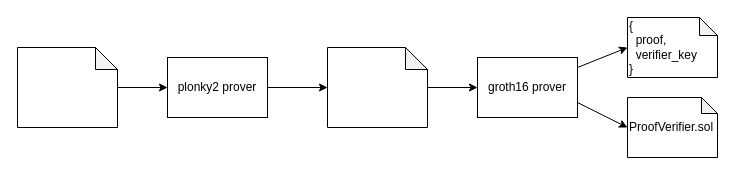
Some shapes in this 735 by 175 pixel diagram are drawn without their labels. The centre of each missing label's shape, as x and y in pixels:
"POD { verifier_data, common_data, proof }" goes at point (67, 87).
"{ verifier_data, common_data, proof }" goes at point (377, 87).
